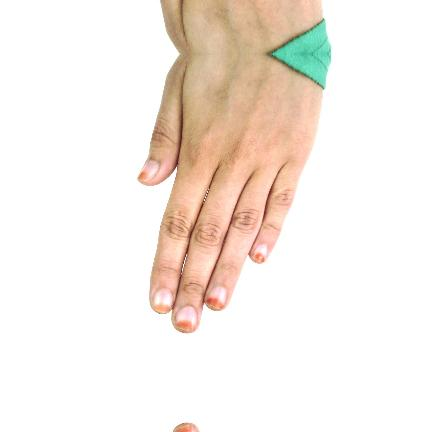Nail: (175, 306, 198, 332), (153, 289, 174, 313), (206, 286, 227, 310), (137, 159, 159, 181), (254, 244, 268, 263), (175, 424, 198, 432)
